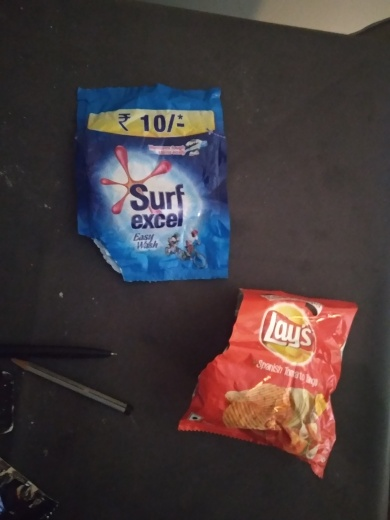lays: (166, 283, 357, 473)
surf: (64, 74, 238, 290)
